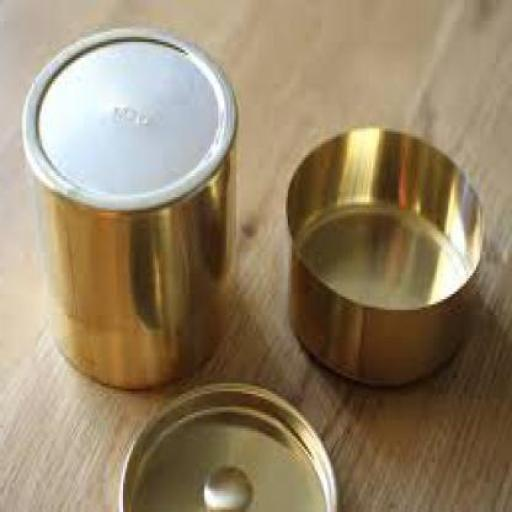metal: (23, 26, 240, 388), (288, 126, 486, 384), (117, 381, 341, 509)
